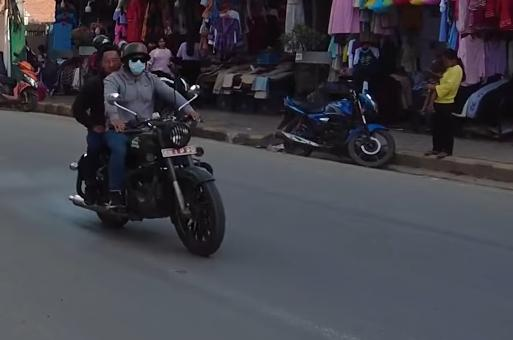bike: (64, 81, 232, 258), (272, 76, 400, 170)
